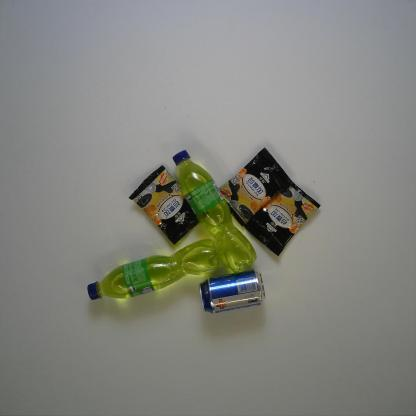Alcohol: (198, 268, 266, 315)
Drink: (172, 149, 258, 275), (86, 238, 222, 301)
Instant Drink: (128, 164, 210, 247), (218, 146, 294, 228), (244, 181, 322, 258)
